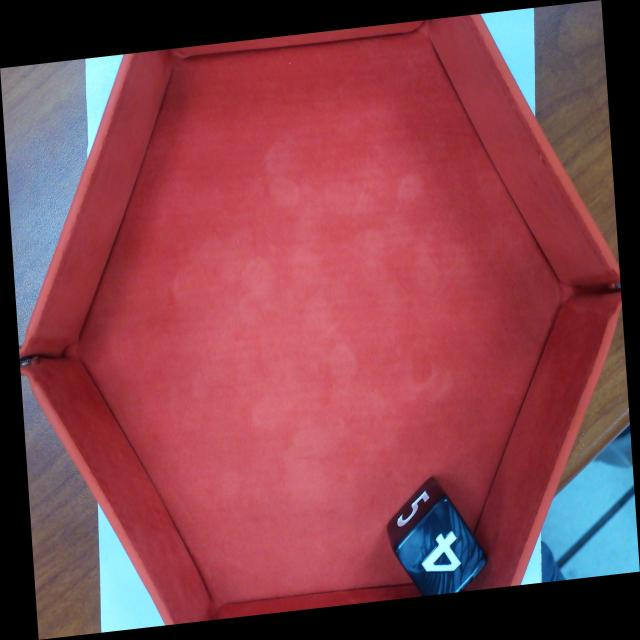dice: (392, 492, 492, 619)
